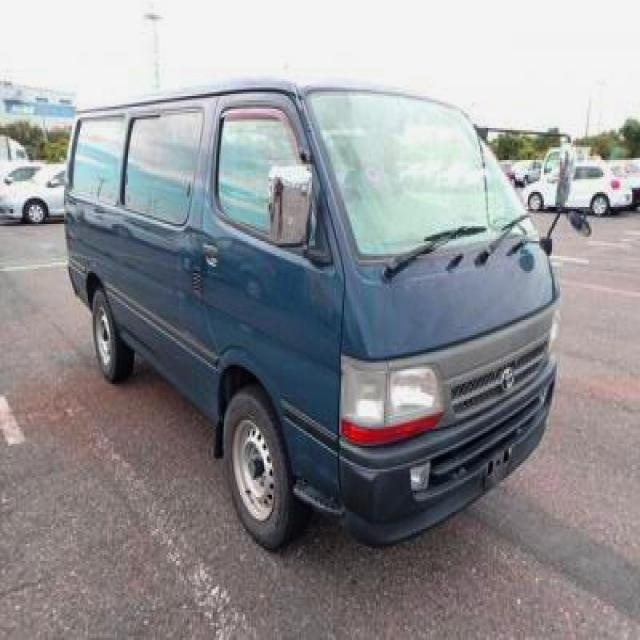Van: (64, 77, 562, 546)
